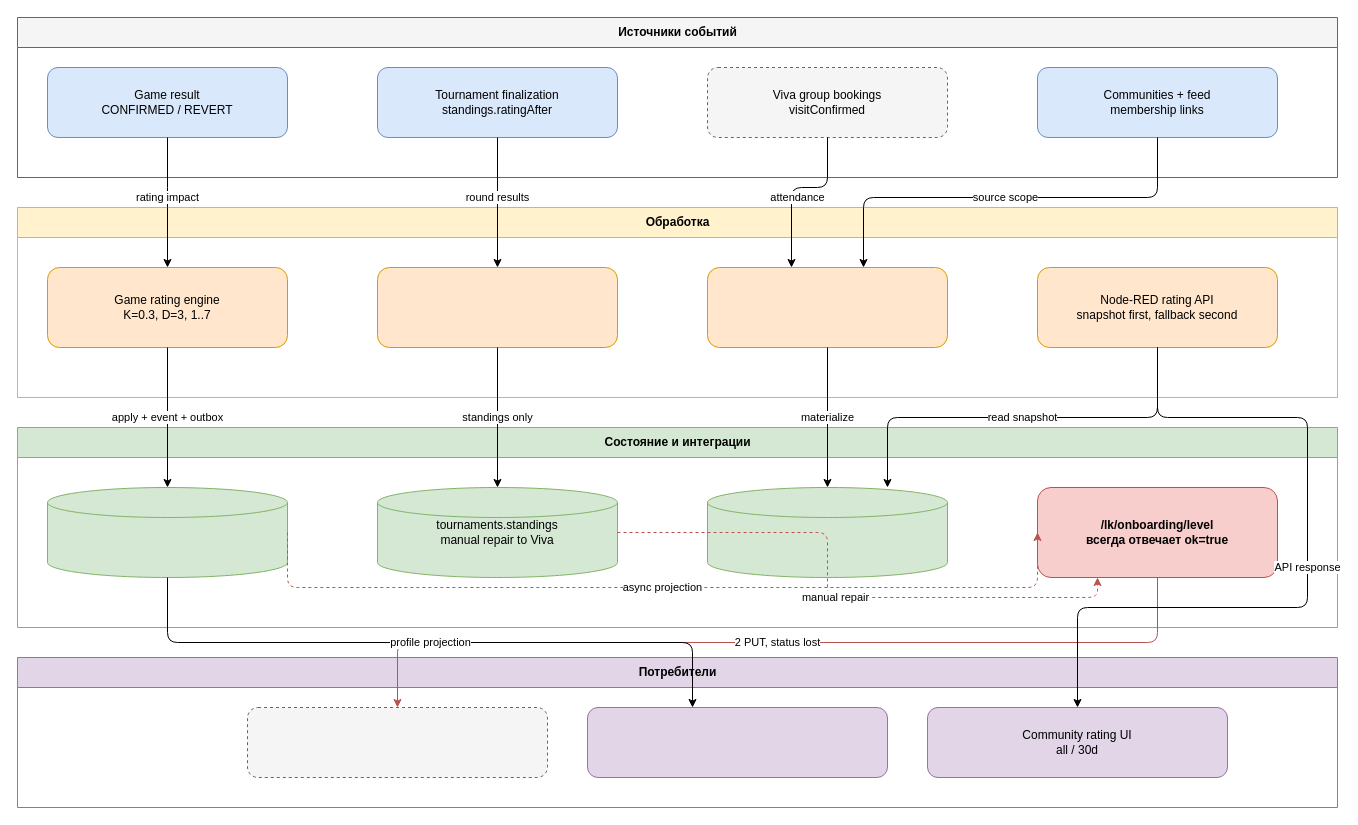
Some shapes in this 1358 by 825 pixel diagram are drawn without their labels. The shapes that lost their labels are listed below. From the top down, each one's centre as x and y in pixels, then its label:
At [497,307]: "Tournament recalculation local standings only".
At [827,307]: "Daily temp worker 23:55 full scan from 2026-05-01".
At [167,532]: "player_ratings lk_game_rating_events".
At [827,532]: "lk_training_visits facts / aggregates / snapshots".
At [397,742]: "Viva custom fields numeric + letter".
At [737,742]: "LK level UI профиль / game state".
